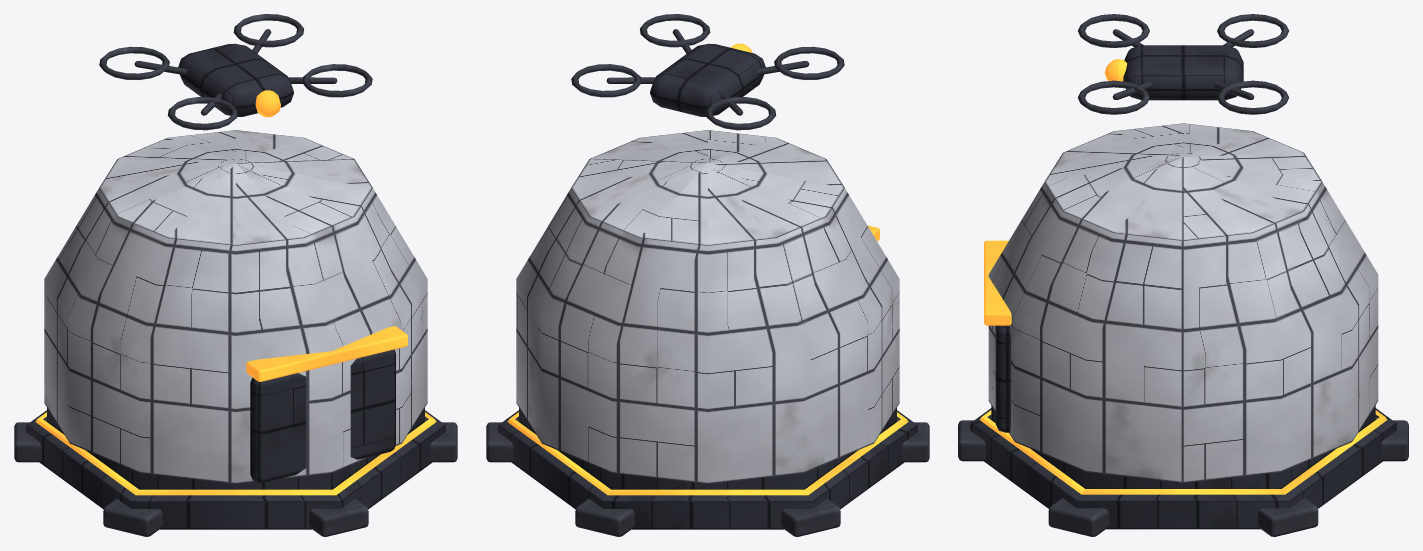
File: sf_dragon.glb
The picture shows the model from 3 angles, left to right: view 1: azimuth 30°, elevation 25°; view 2: azimuth 150°, elevation 25°; view 3: azimuth 270°, elevation 25°; orthographic projection.
Visible parts, largest first — view 1: Base, Turret; view 2: Base, Turret; view 3: Base, Turret.
Part boxes in pixels (x1,y1,x2,y2): Base: [14, 130, 457, 536]; Turret: [99, 14, 372, 130]; Base: [486, 130, 929, 536]; Turret: [571, 14, 844, 130]; Base: [958, 123, 1408, 536]; Turret: [1078, 14, 1288, 114].
Bounding box in the file's own units: 0.8934 × 0.94 × 0.9716.
4 materials, 4 textured.
